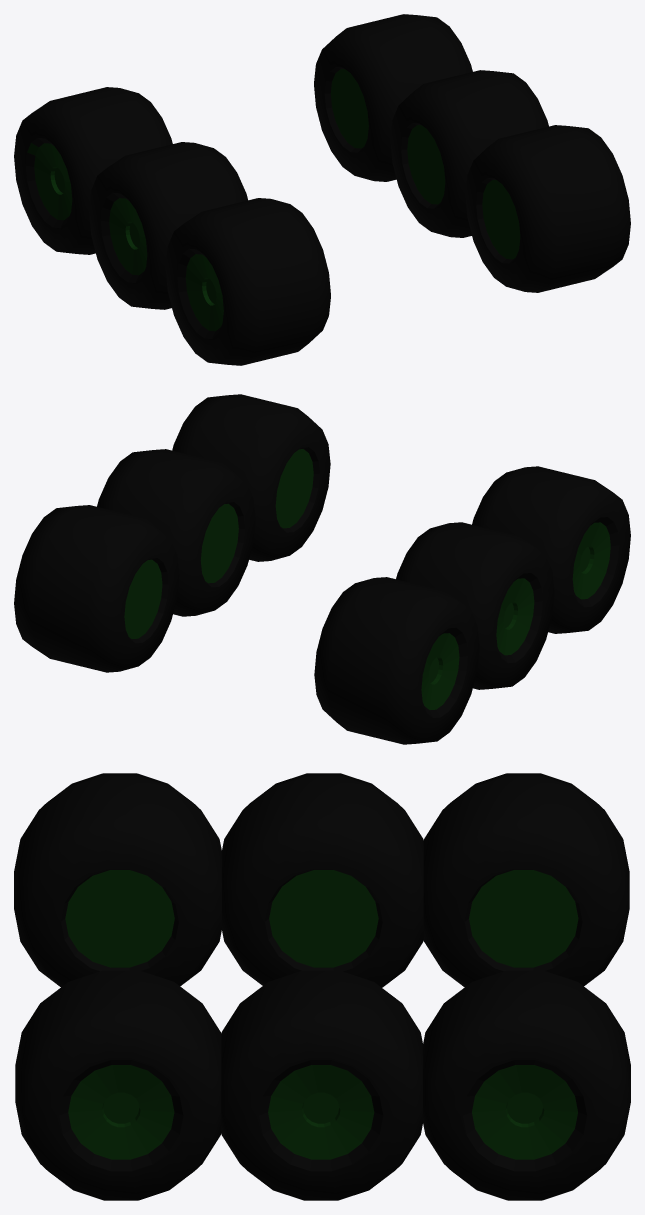
File: 3D_CannonTriple_Wheels_MESH.fbx
The picture shows the model from 3 angles, top to bottom: view 1: azimuth 30°, elevation 25°; view 2: azimuth 150°, elevation 25°; view 3: azimuth 270°, elevation 25°; orthographic projection. The views are drawn at different scales.
Parts seen in each view (by area): view 1: 3D_CannonTriple_Wheels_MESH; view 2: 3D_CannonTriple_Wheels_MESH; view 3: 3D_CannonTriple_Wheels_MESH.
Boxes of the visible parts, x1,y1,x2,y2 form: 3D_CannonTriple_Wheels_MESH: (14, 14, 630, 365); 3D_CannonTriple_Wheels_MESH: (14, 394, 630, 744); 3D_CannonTriple_Wheels_MESH: (14, 773, 630, 1200).
Bounding box in the file's own units: 171 × 58.59 × 173.
